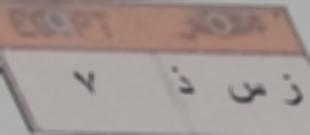7: (70, 65, 99, 99)
seen: (223, 76, 269, 107)
zaal: (169, 64, 198, 101)
zay: (275, 70, 305, 115)
